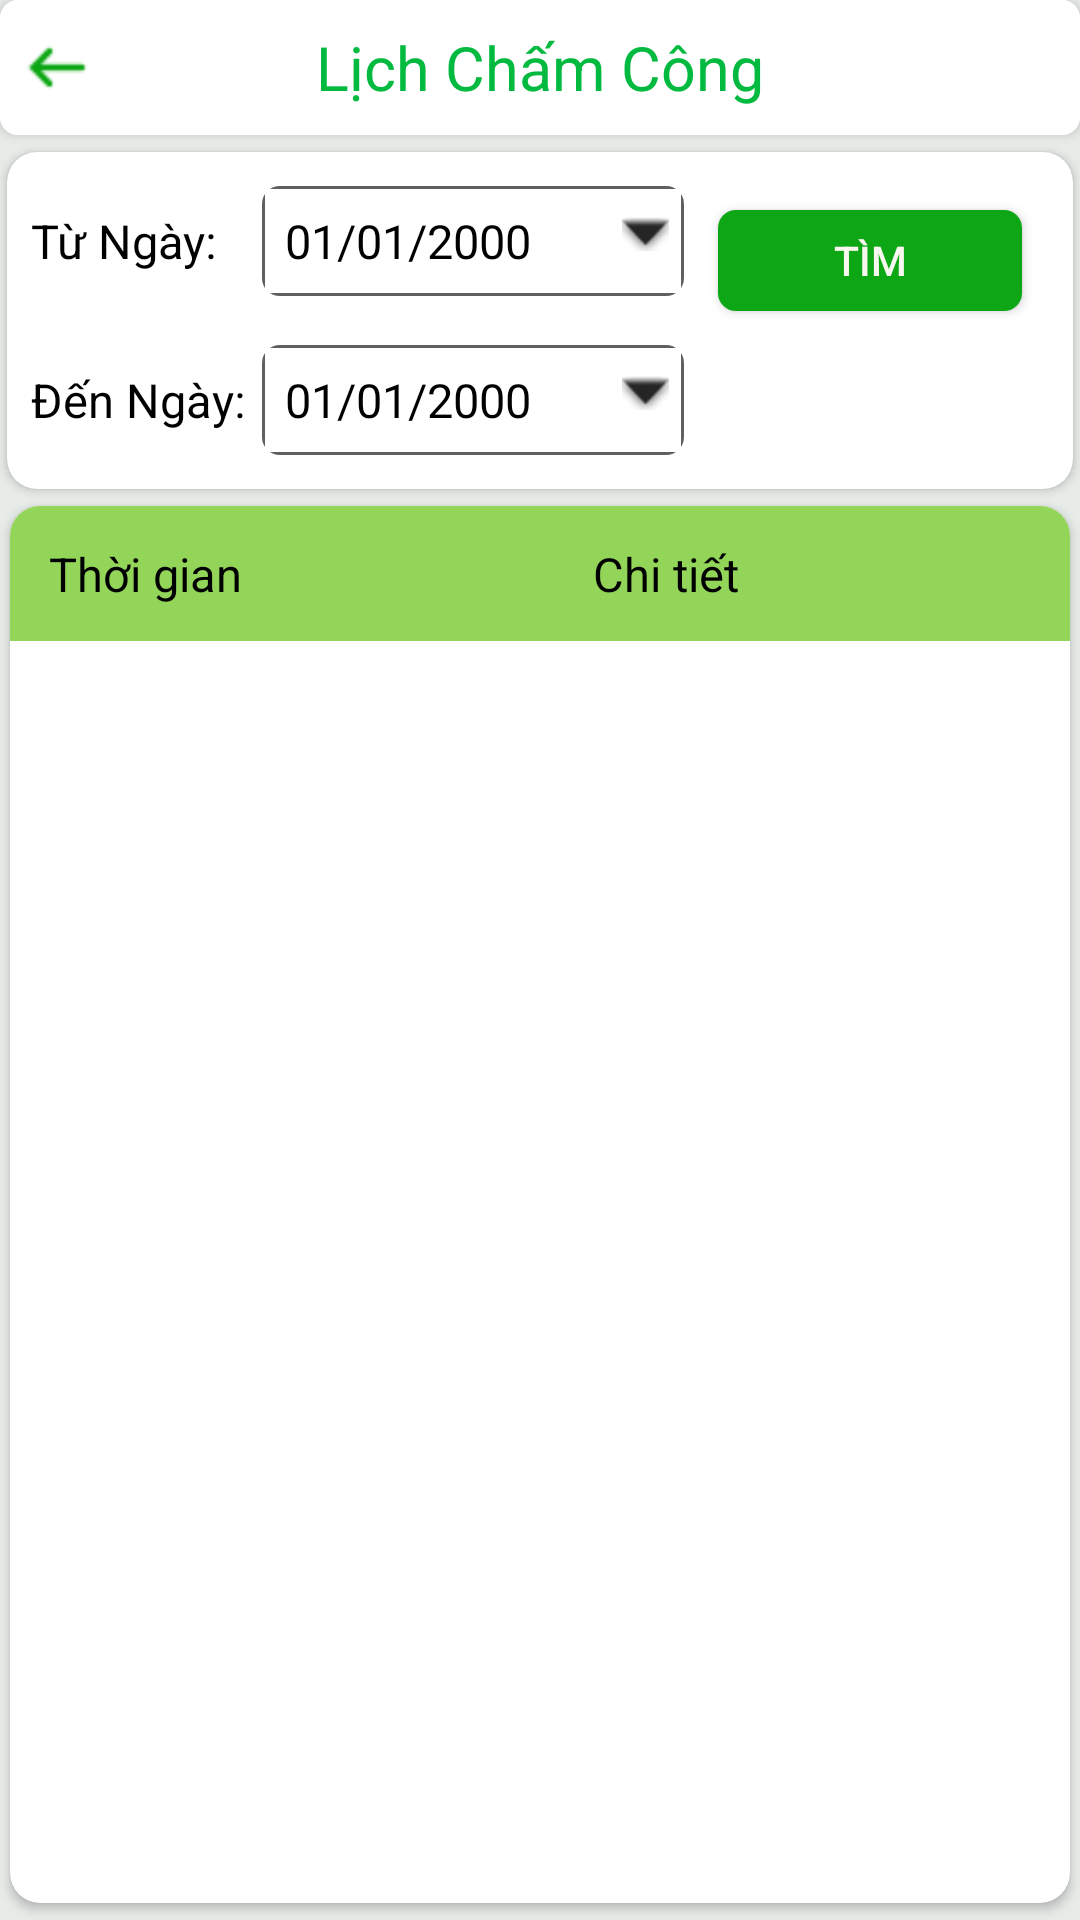

Icon bounding boxes for this 1080×1920 phone screenshot, format Rect(x1, y1, x2, y2):
back: Rect(28, 47, 86, 88)
